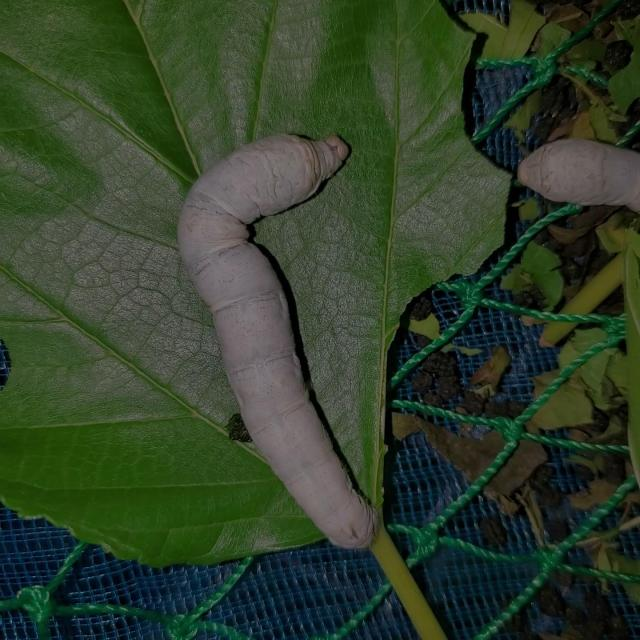Healthy: (166, 112, 394, 567)
